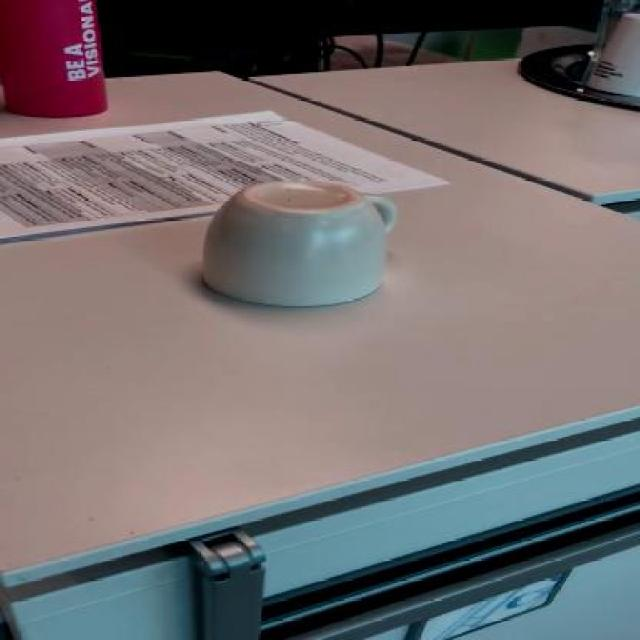cup: (204, 180, 384, 306)
